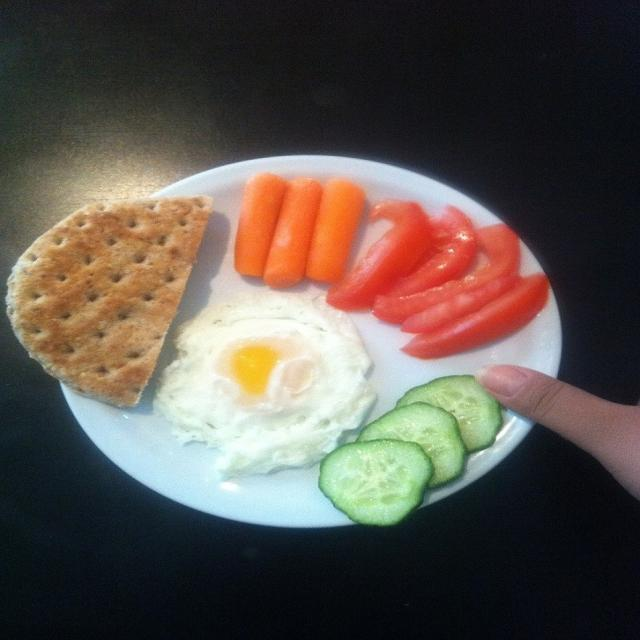Bread: (2, 185, 205, 412)
Carrot: (225, 168, 362, 288)
Cucumber: (372, 383, 477, 514)
Egg: (172, 298, 368, 454)
Finger: (496, 364, 602, 440)
Tomato: (368, 196, 562, 358)
